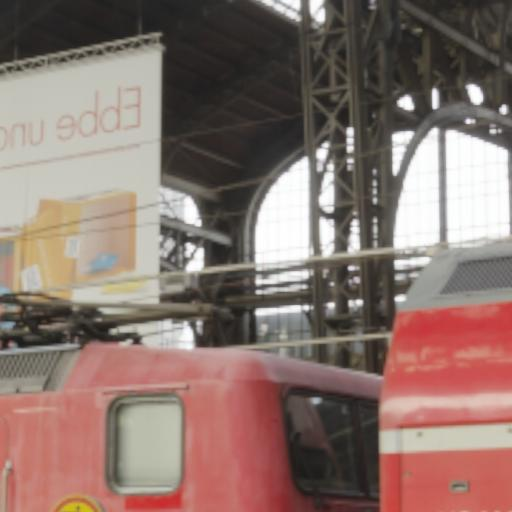nothing: (1, 1, 512, 508)
